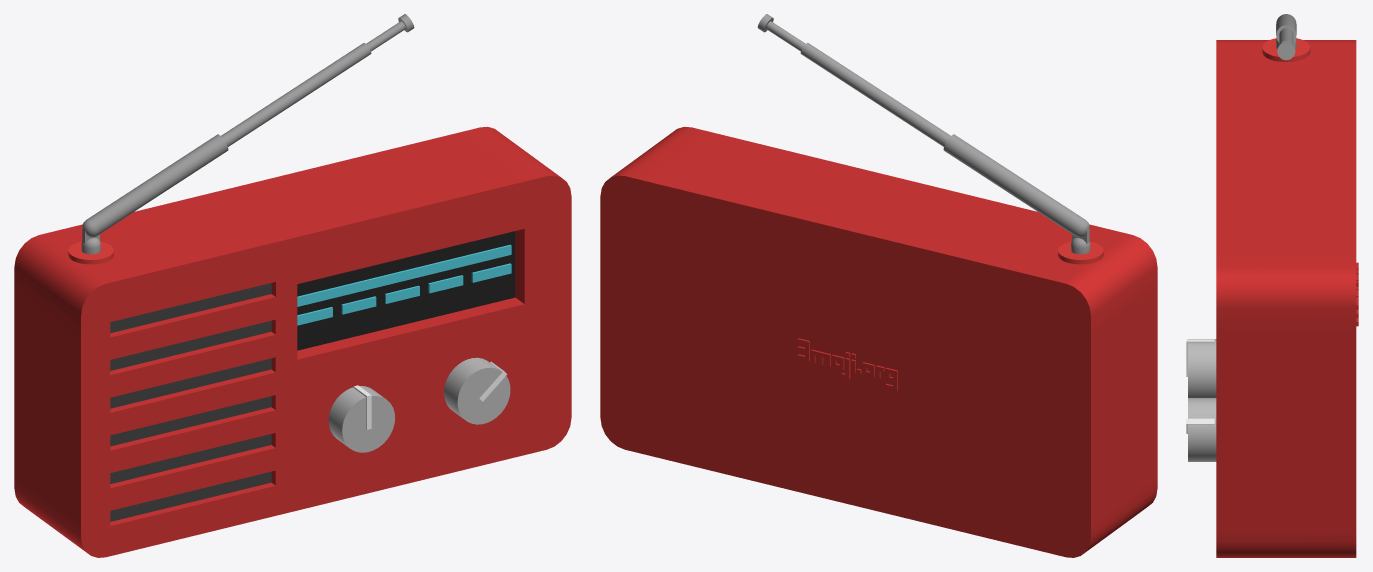
The model's file is radio.fbx.
The picture shows the model from 3 angles, left to right: view 1: azimuth 30°, elevation 25°; view 2: azimuth 150°, elevation 25°; view 3: azimuth 270°, elevation 25°; orthographic projection. The views are drawn at different scales.
Parts seen in each view (by area): view 1: Cube.910; view 2: Cube.910; view 3: Cube.910.
Part boxes in pixels (box(x1,y1,x2,y2)): Cube.910: box(14, 14, 571, 557); Cube.910: box(600, 14, 1157, 557); Cube.910: box(1186, 14, 1358, 557).
Size of the model in its own units: 229 by 195 by 66.24.
1 material, 1 textured.
